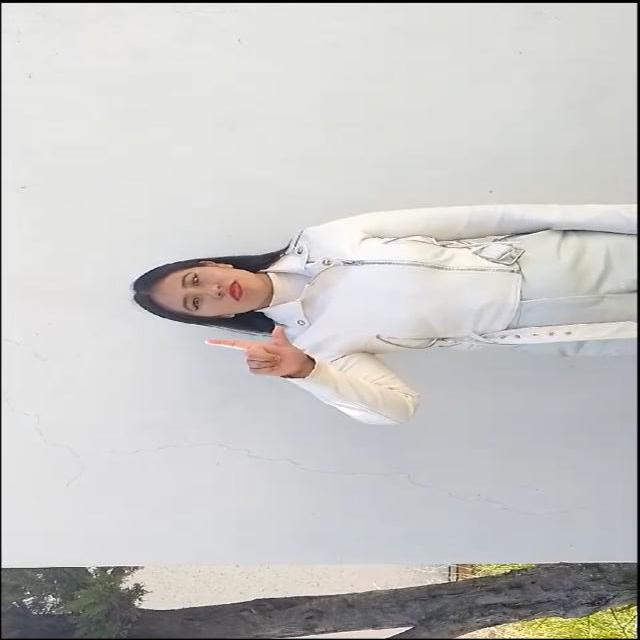L: (193, 321, 332, 386)
